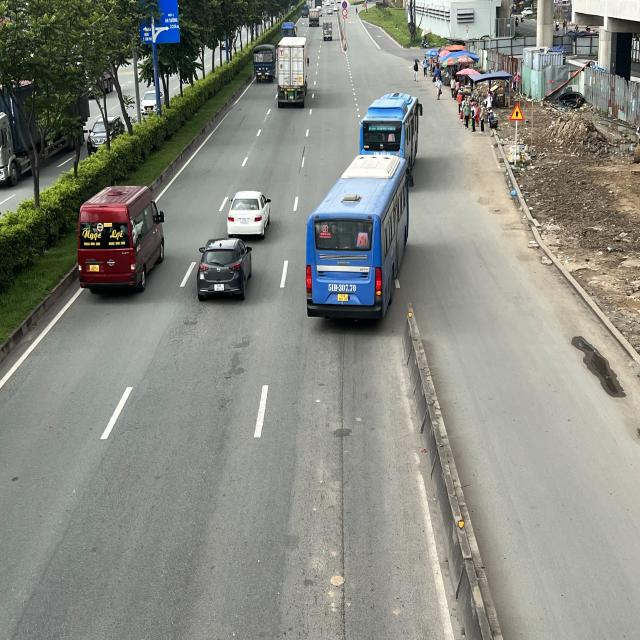car: (196, 237, 256, 298), (226, 192, 272, 237)
coach: (304, 156, 409, 320), (359, 91, 424, 172)
container: (277, 34, 310, 107)
truck: (252, 43, 276, 85)
van: (77, 182, 165, 291)
